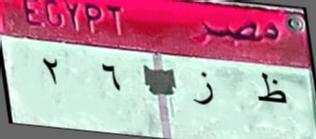2: (38, 53, 61, 89)
6: (100, 61, 125, 98)
Thaa: (255, 68, 288, 110)
zay: (190, 70, 217, 110)
